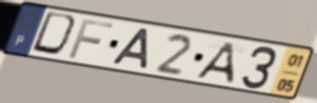2: (154, 33, 194, 76)
3: (238, 44, 279, 91)
A: (193, 40, 237, 86), (109, 26, 152, 71)
D: (28, 9, 82, 59)
F: (66, 17, 116, 61)
